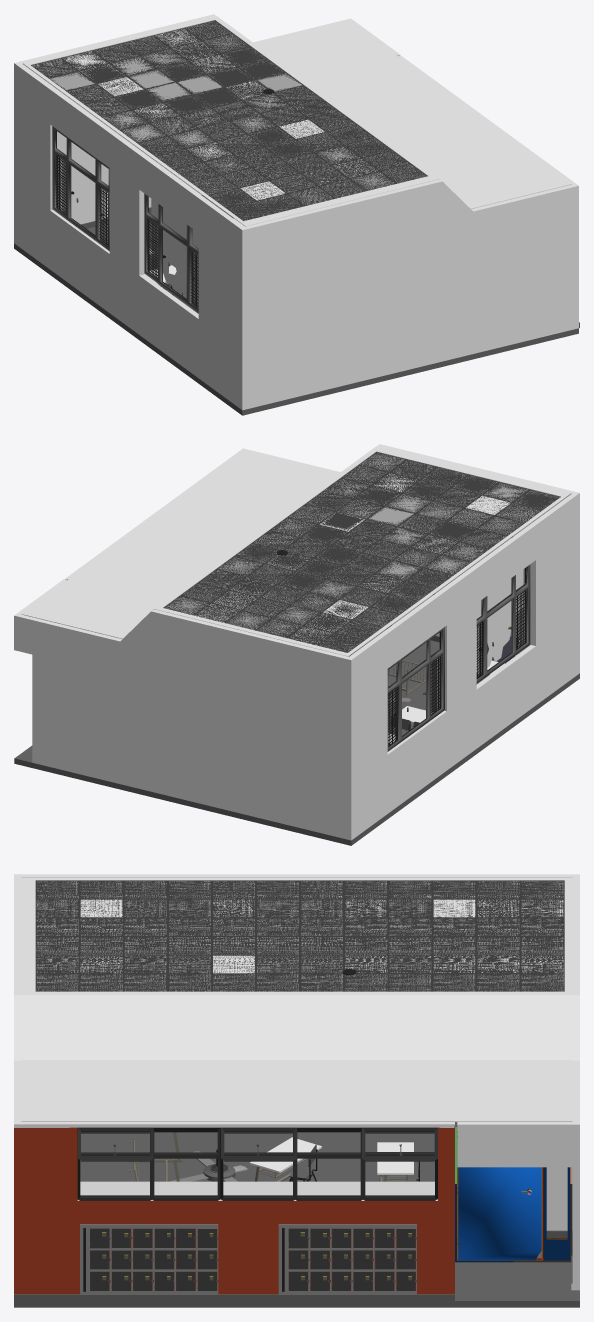
Rendered from Aula N1 fixed.fbx.
3 renders of one model, top to bottom at view 1: azimuth 30°, elevation 25°; view 2: azimuth 150°, elevation 25°; view 3: azimuth 270°, elevation 25°, orthographic. The views are drawn at different scales.
Visible parts, largest first — view 1: Pared.003, Techo, Ventana afuera.001, Piso, Ventana afuera.002; view 2: Pared.003, Techo, Piso, Ventana afuera.001, Ventana afuera.002; view 3: Techo, Pared.003, Piso, Lockers, Ventana, Puerta, Cube, MarcoPuerta, Banco.009, Banco.014, Ventilador.001.
Boxes of the visible parts, bbox=[...] form: Pared.003: bbox=[14, 14, 579, 410]; Techo: bbox=[23, 16, 571, 226]; Ventana afuera.001: bbox=[144, 193, 198, 312]; Piso: bbox=[14, 199, 578, 415]; Ventana afuera.002: bbox=[52, 126, 109, 250]; Pared.003: bbox=[32, 444, 579, 840]; Techo: bbox=[14, 446, 570, 656]; Piso: bbox=[14, 629, 579, 845]; Ventana afuera.001: bbox=[476, 564, 530, 683]; Ventana afuera.002: bbox=[387, 627, 444, 751]; Techo: bbox=[21, 877, 579, 1167]; Pared.003: bbox=[14, 874, 579, 1301]; Piso: bbox=[14, 1122, 579, 1307]; Lockers: bbox=[80, 1224, 417, 1294]; Ventana: bbox=[77, 1127, 437, 1200]; Puerta: bbox=[458, 1167, 541, 1260]; Cube: bbox=[77, 1181, 437, 1200]; MarcoPuerta: bbox=[455, 1127, 572, 1262]; Banco.009: bbox=[249, 1137, 321, 1181]; Banco.014: bbox=[377, 1142, 413, 1181]; Ventilador.001: bbox=[170, 1149, 248, 1181].
Bounding box in the file's own units: 674 × 346 × 770.
32 materials, 31 textured.
